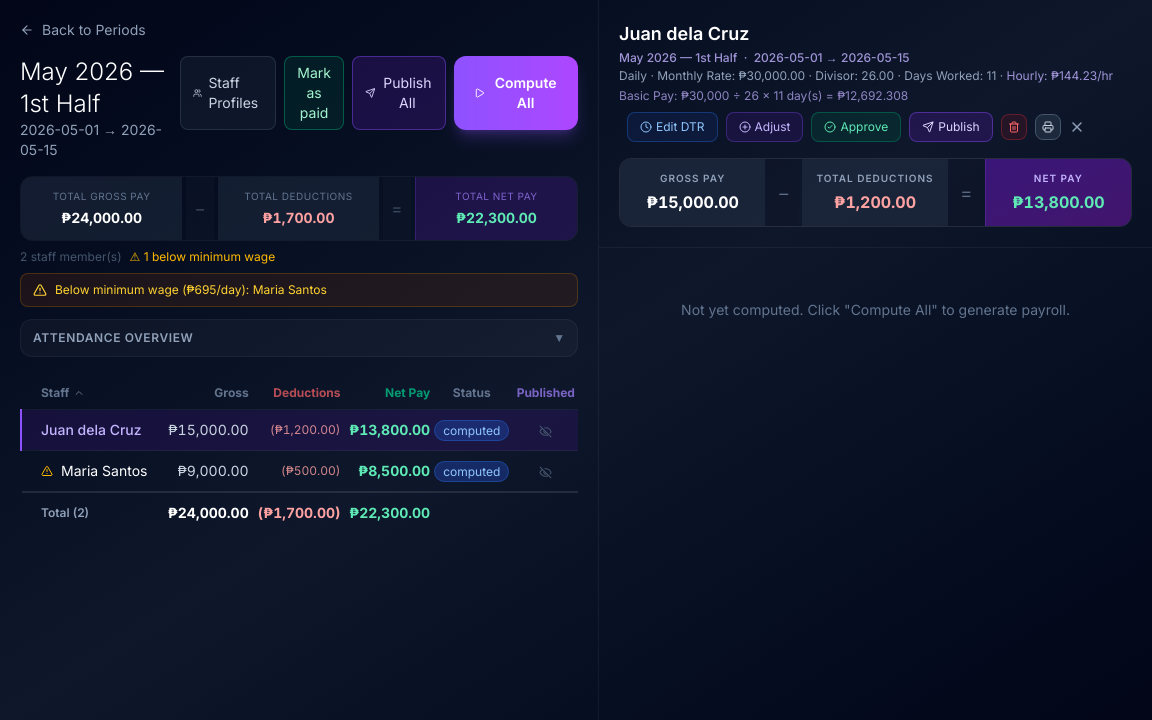
it: ManilaPayrollPeriodPage — side panel › side panel clears when a different run is selected
# Select Juan
Click the text "Juan dela Cruz". click: (91, 430)
box: [41,420,142,440]
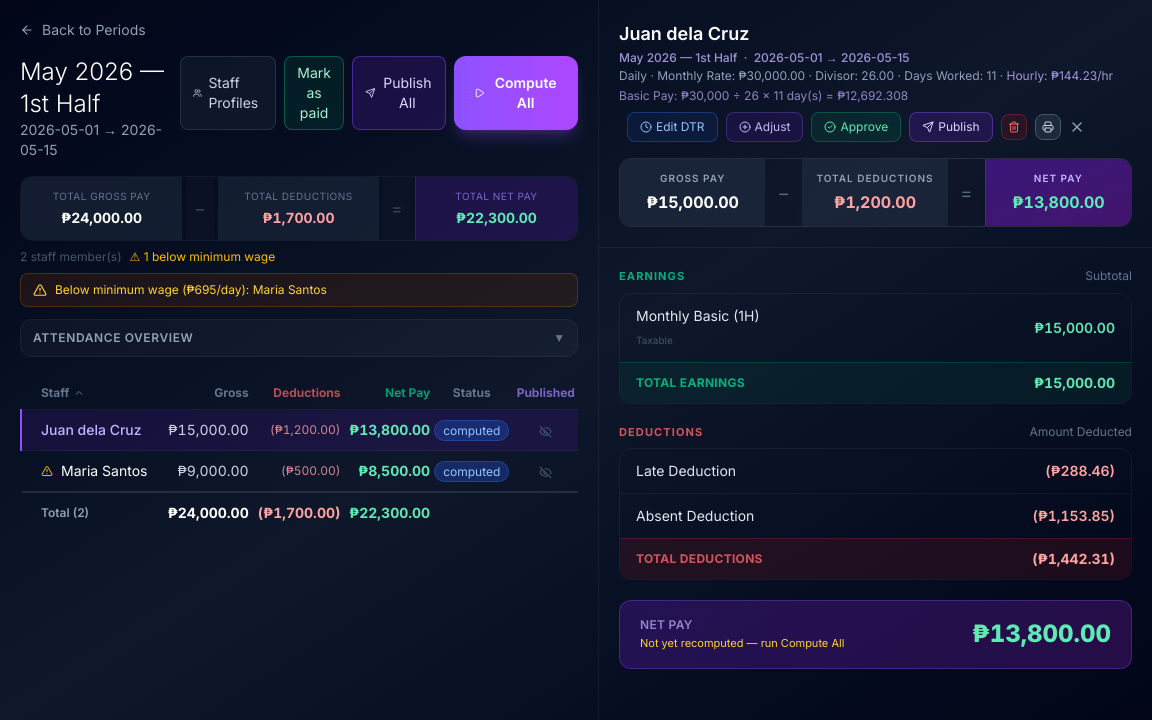
Now the text "Monthly Basic (1H)" is shown, box [636,306,760,326]
# Select Maria — Juan's items should clear
Click the text "Maria Santos". click: (104, 471)
box: [61,461,148,481]
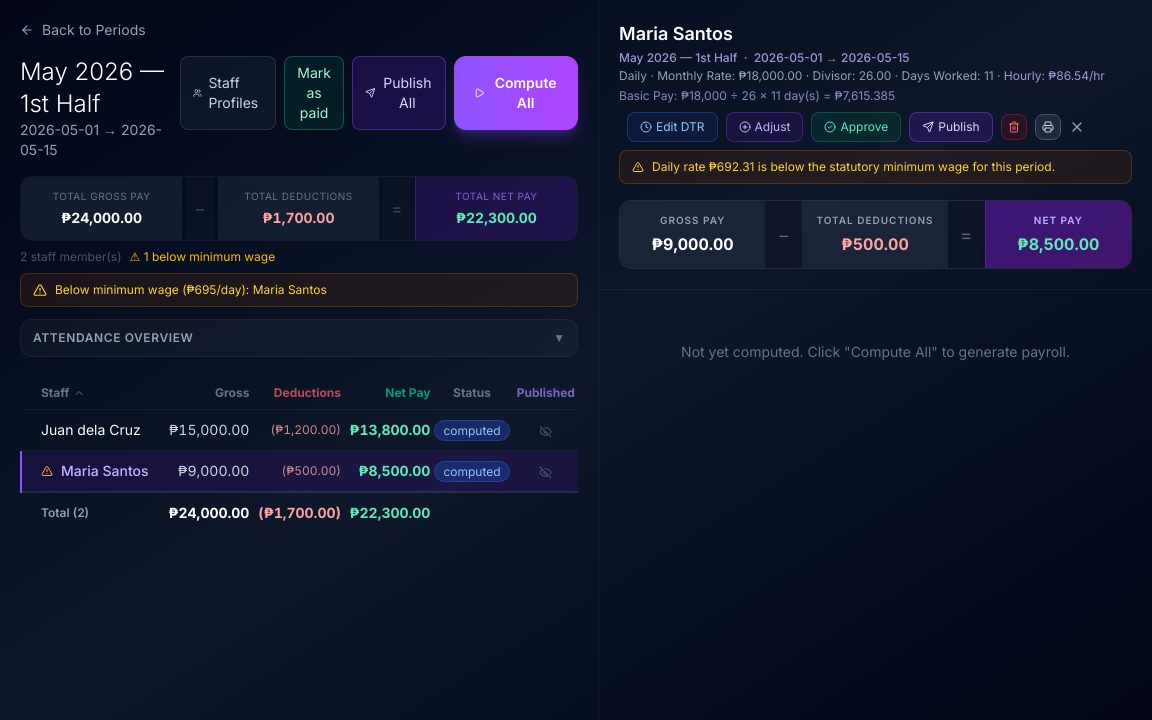
Now the text "Monthly Basic" is gone
